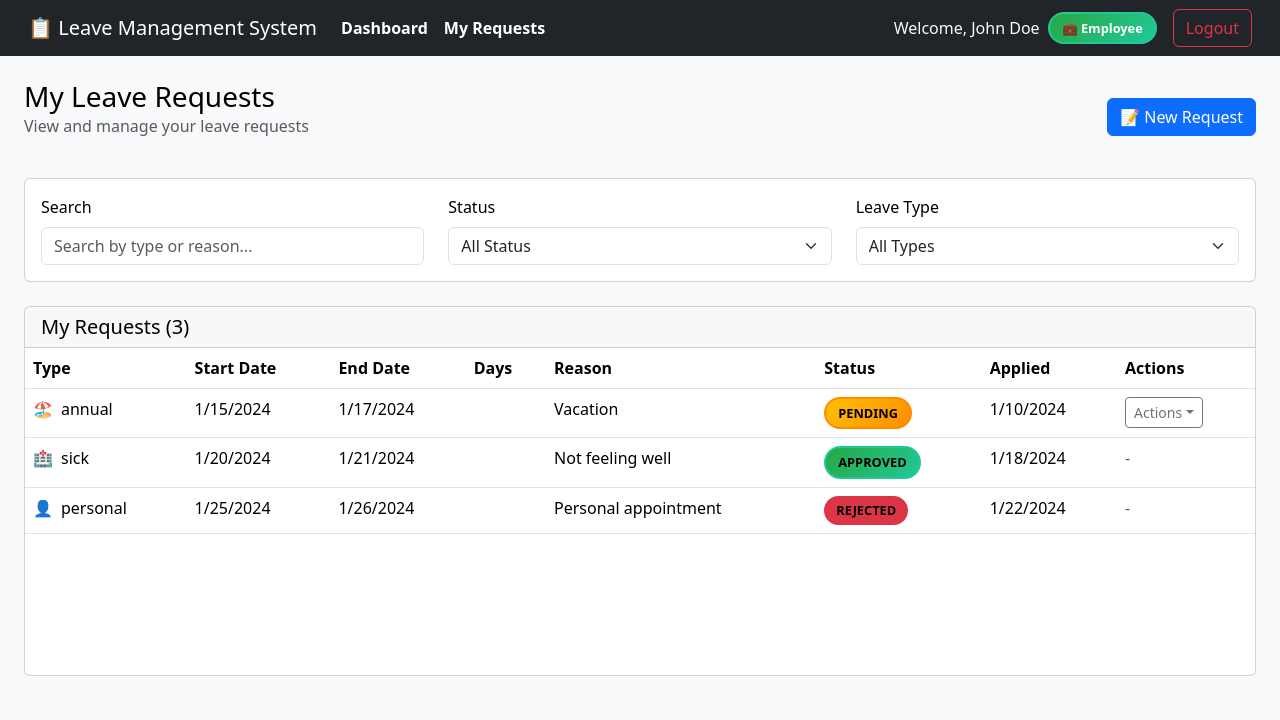
Test case: LeaveRequestsPage Component › filters requests by search term
Expected: the heading "My Leave Requests" is shown, top-left (24, 80), bottom-right (309, 114)
Type "vacation" into the field with placeholder "Search by type or reason...". click: [233, 246]
box: top-left (41, 227), bottom-right (424, 265)
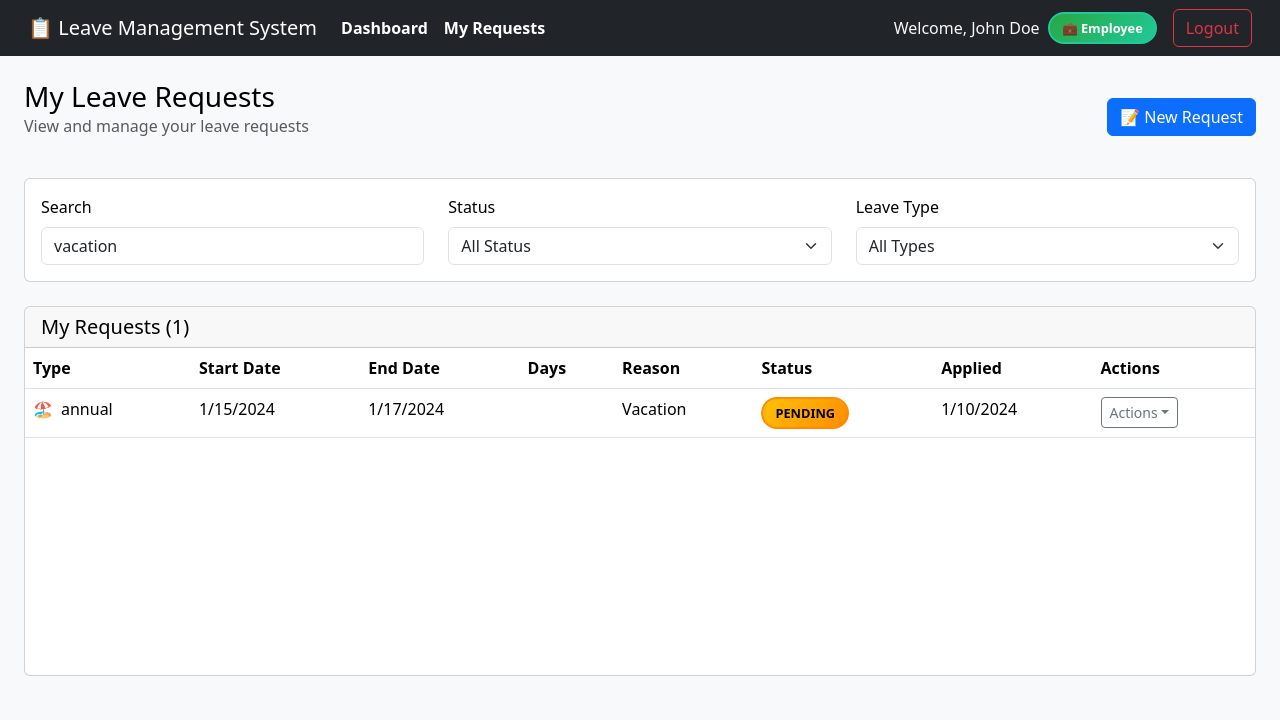
Expected: the text "Vacation" is shown, top-left (622, 398), bottom-right (686, 420)
Expected: the text "Not feeling well" is gone
